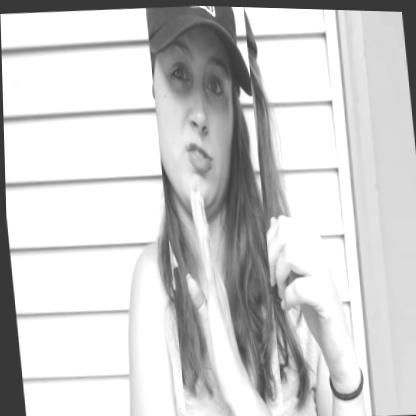Talk: (145, 3, 282, 416)
